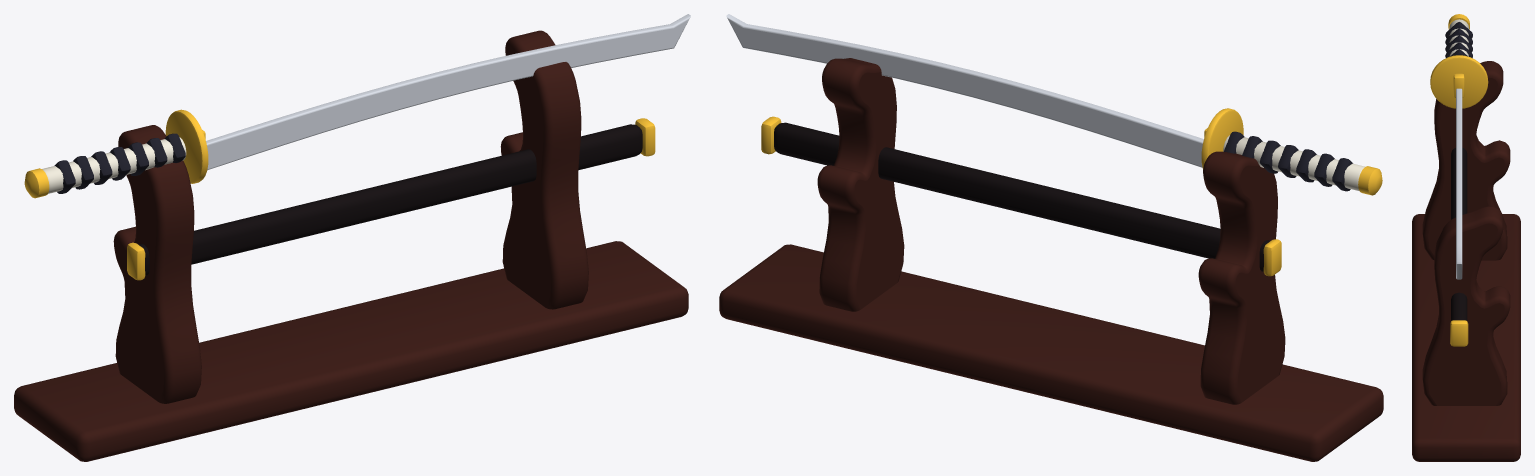
The model's file is Katana.fbx.
3 views of the same model, side by side, from view 1: azimuth 30°, elevation 25°; view 2: azimuth 150°, elevation 25°; view 3: azimuth 270°, elevation 25° (orthographic). The views are drawn at different scales.
Visible parts, largest first — view 1: Stand, Scabbard, Blade, Gold, Wrap, Ray; view 2: Stand, Scabbard, Blade, Gold, Wrap, Ray; view 3: Stand, Gold, Blade, Scabbard, Wrap, Ray.
Part boxes in pixels (x1=…): Stand: x1=14, y1=30, x2=688, y2=461; Scabbard: x1=138, y1=124, x2=642, y2=275; Blade: x1=206, y1=14, x2=690, y2=169; Gold: x1=24, y1=109, x2=655, y2=280; Wrap: x1=54, y1=133, x2=185, y2=193; Ray: x1=42, y1=137, x2=186, y2=193; Stand: x1=719, y1=58, x2=1383, y2=461; Scabbard: x1=774, y1=122, x2=1270, y2=271; Blade: x1=726, y1=14, x2=1203, y2=167; Gold: x1=761, y1=108, x2=1382, y2=276; Wrap: x1=1224, y1=131, x2=1352, y2=191; Ray: x1=1223, y1=135, x2=1365, y2=191; Stand: x1=1412, y1=61, x2=1520, y2=461; Gold: x1=1430, y1=14, x2=1488, y2=346; Blade: x1=1456, y1=88, x2=1462, y2=279; Scabbard: x1=1451, y1=147, x2=1467, y2=320; Wrap: x1=1445, y1=22, x2=1472, y2=57; Ray: x1=1449, y1=19, x2=1469, y2=56.
Size of the model in its own units: 325 by 140 by 60.
